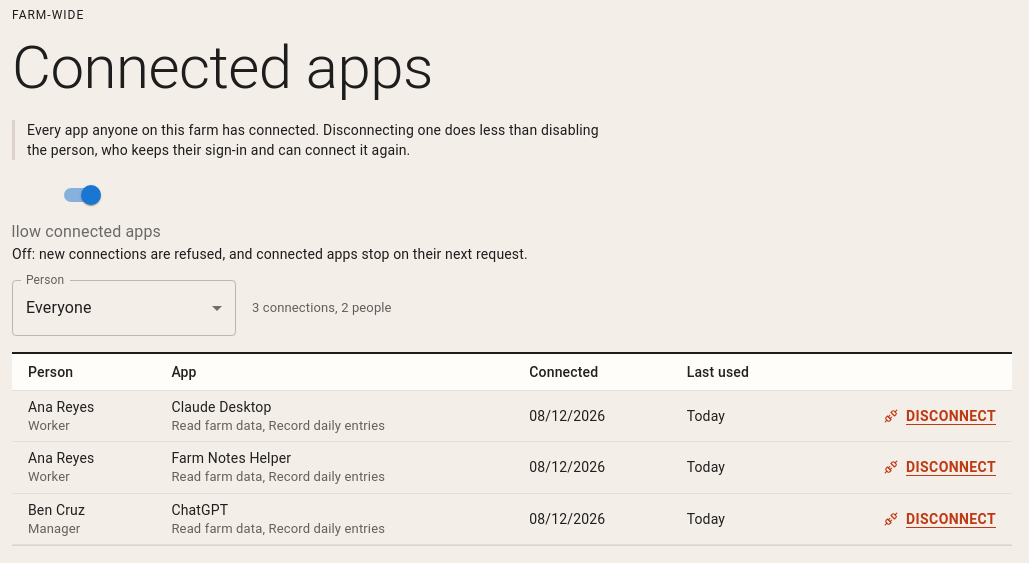
Scenario: Setup › Connected apps, the Owner's farm-wide page (#799) › filters by person and counts what it shows
Expected: the text "3 connections, 2 people" is shown, left=252, top=298, right=392, bottom=317
Select "Ben Cruz" in the dropdown labelled "Person" at [124, 308], box left=12, top=280, right=236, bottom=336
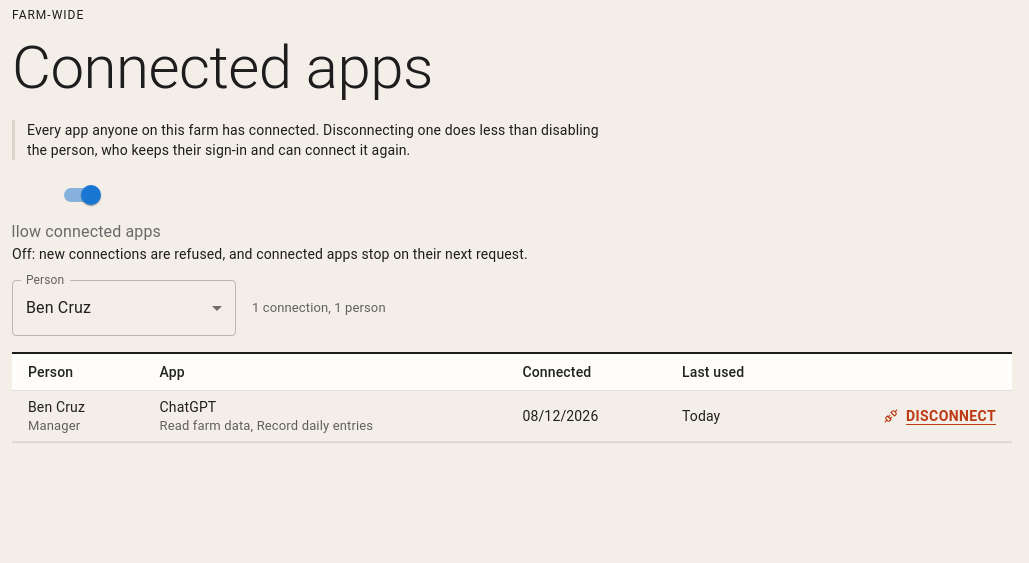
Expected: the text "1 connection, 1 person" is shown, left=252, top=298, right=386, bottom=317
Expected: the text "Claude Desktop" is gone
